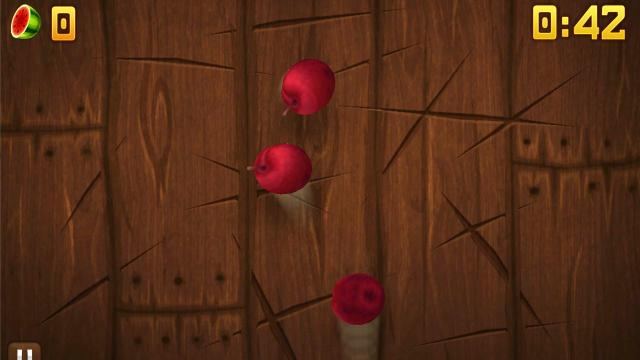fruit: (280, 58, 336, 116), (250, 142, 312, 194), (330, 271, 386, 325)
ignore: (9, 3, 43, 41)
